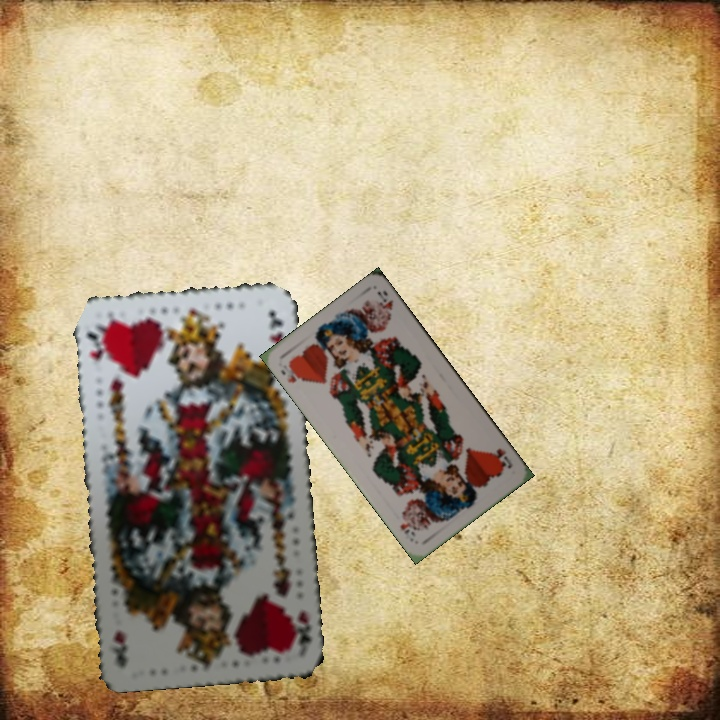HK: (288, 607, 315, 653), (82, 321, 106, 364)
HO: (277, 358, 306, 386), (487, 444, 515, 472)
